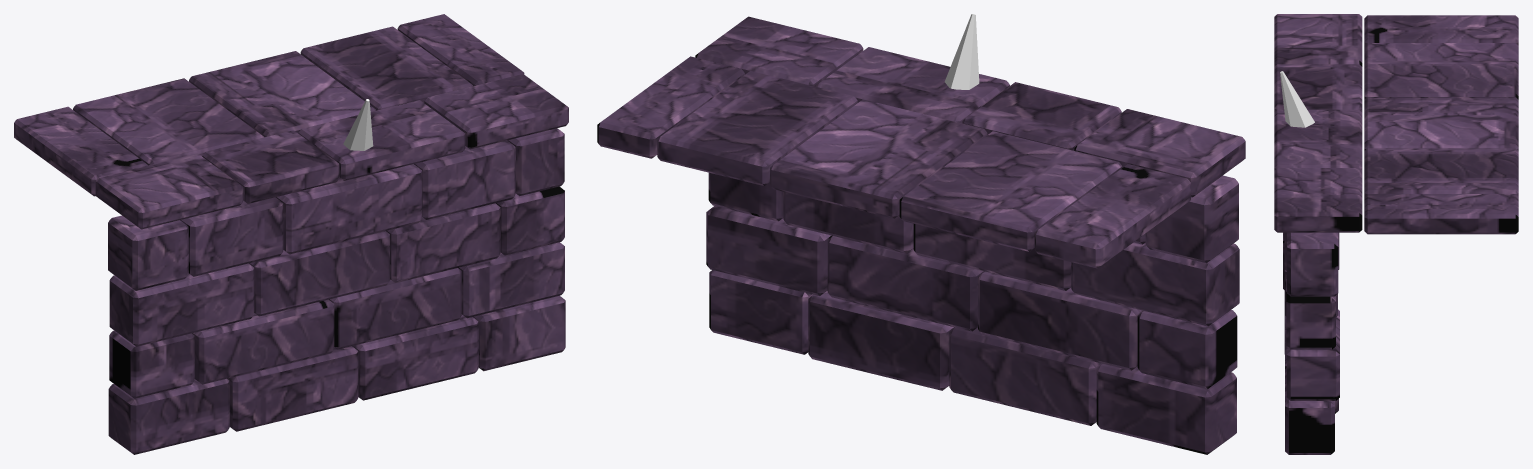
File: mapkit_face_crystal.fbx
3 views of the same model, side by side, from view 1: azimuth 30°, elevation 25°; view 2: azimuth 150°, elevation 25°; view 3: azimuth 270°, elevation 25° (orthographic). The views are drawn at different scales.
Parts seen in each view (by area): view 1: Body, c_115_230_255; view 2: Body, c_115_230_255; view 3: Body, c_115_230_255.
Part boxes in pixels (x1,y1,x2,y2): Body: (14, 14, 568, 454); c_115_230_255: (343, 99, 373, 150); Body: (597, 16, 1245, 454); c_115_230_255: (944, 14, 979, 89); Body: (1274, 14, 1518, 454); c_115_230_255: (1280, 71, 1314, 127).
Bounding box in the file's own units: 1196 × 801 × 610.
Materials: 1 (1 with a texture image).
